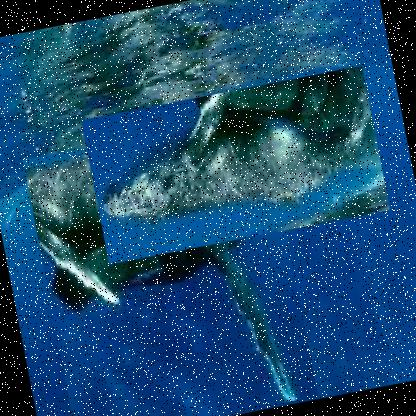blue_whale: (22, 112, 320, 415), (81, 65, 391, 266)
